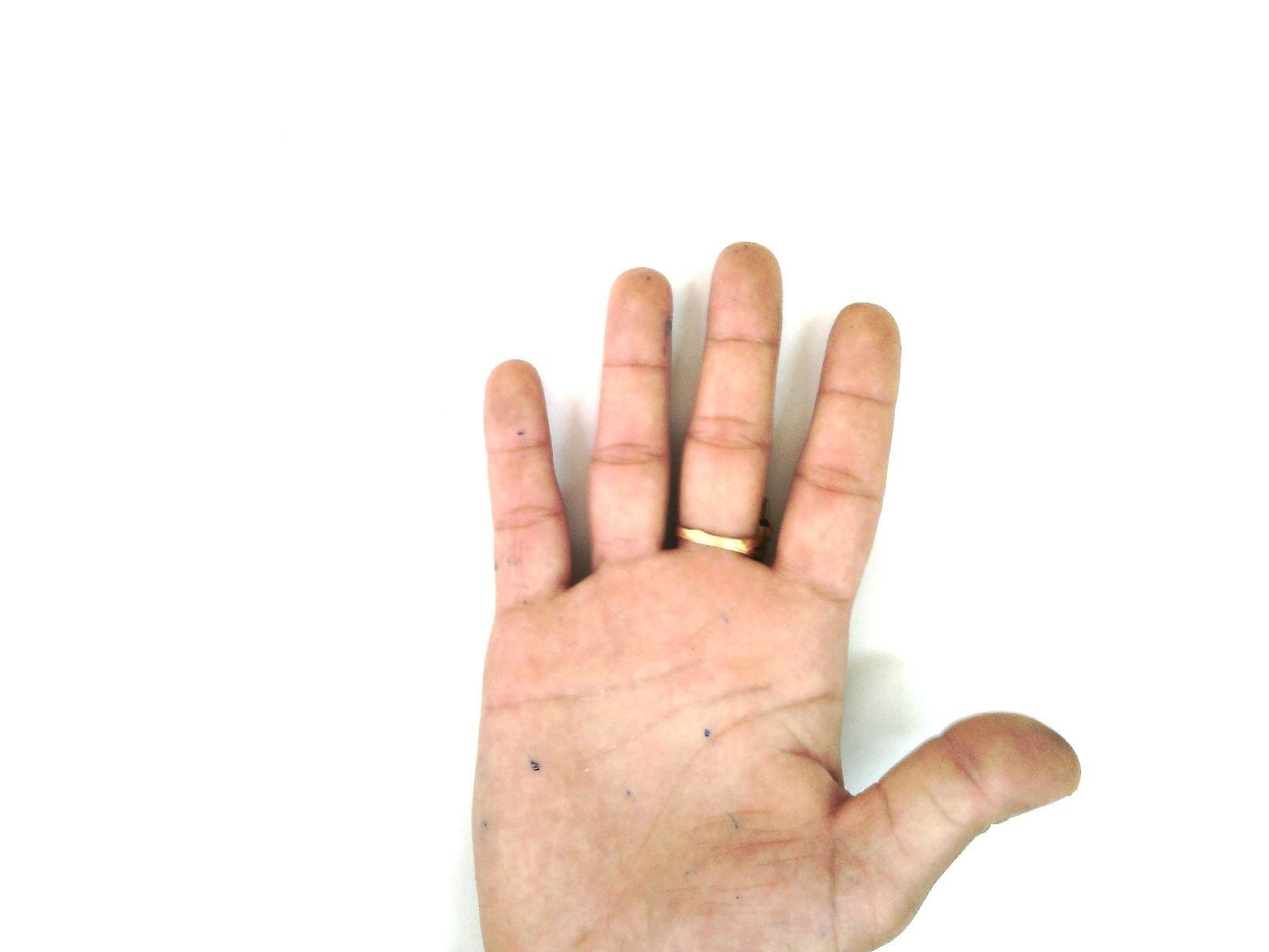open_palm: (467, 240, 1083, 952)
